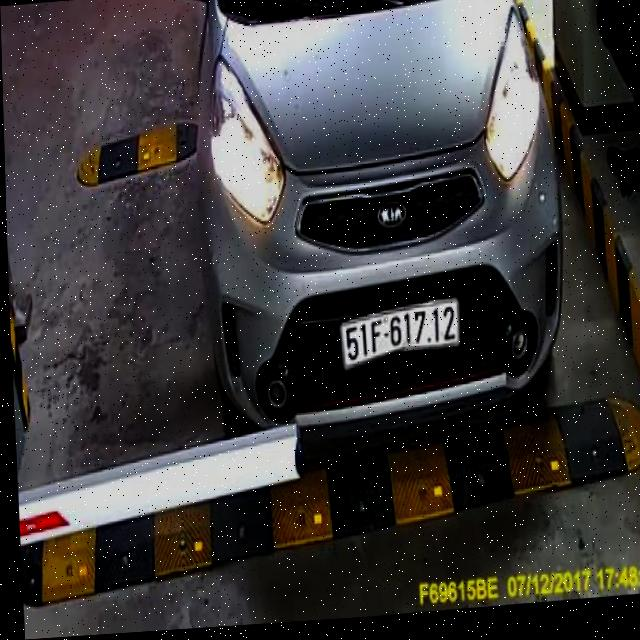car: (162, 0, 581, 470)
plate: (334, 297, 468, 371)
